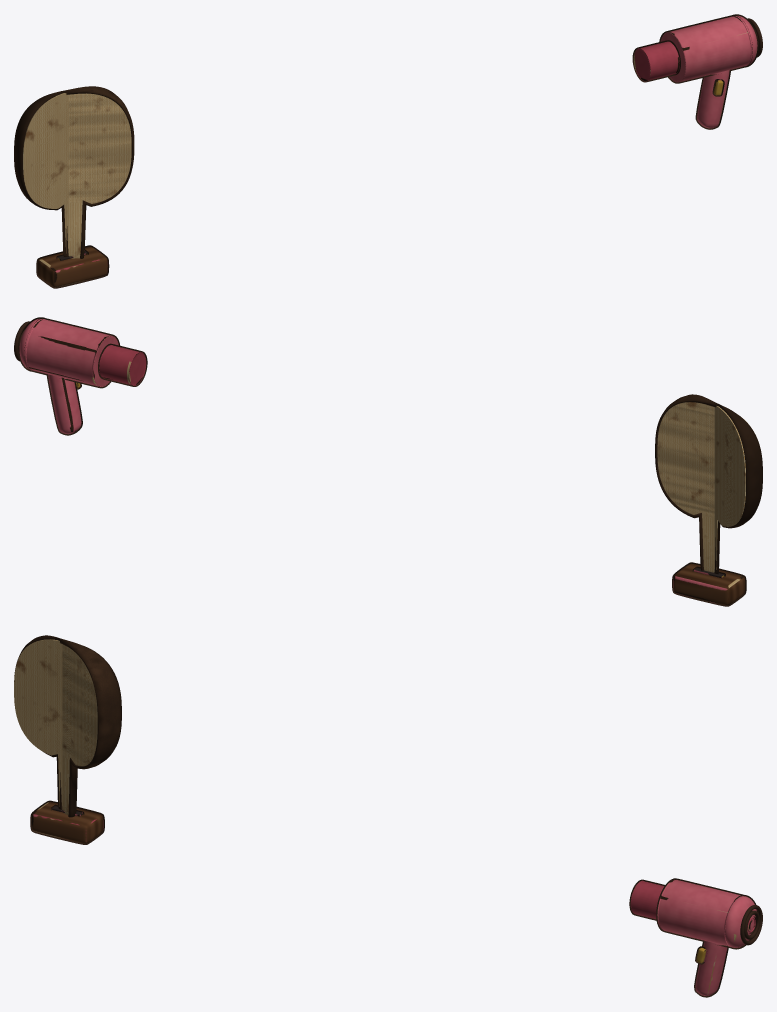
File: Lab_Props.fbx
The picture shows the model from 3 angles, top to bottom: view 1: azimuth 30°, elevation 25°; view 2: azimuth 150°, elevation 25°; view 3: azimuth 330°, elevation 25°; orthographic projection. The views are drawn at different scales.
Visible parts, largest first — view 1: Item_QuatMo, Item_HairDryer, Item_QuatMoHolder, Item_HairDryer_Outline; view 2: Item_QuatMo, Item_HairDryer, Item_QuatMoHolder, Item_HairDryer_Outline; view 3: Item_QuatMo, Item_HairDryer, Item_QuatMoHolder, Item_HairDryer_Outline.
Part boxes in pixels (x1,y1,x2,y2): Item_QuatMo: [14, 86, 134, 258]; Item_HairDryer: [633, 15, 757, 128]; Item_QuatMoHolder: [37, 246, 107, 287]; Item_HairDryer_Outline: [632, 14, 762, 129]; Item_QuatMo: [655, 394, 762, 574]; Item_HairDryer: [19, 318, 146, 434]; Item_QuatMoHolder: [673, 563, 745, 605]; Item_HairDryer_Outline: [14, 317, 147, 435]; Item_QuatMo: [14, 635, 121, 817]; Item_HairDryer: [630, 879, 756, 995]; Item_QuatMoHolder: [31, 802, 103, 843]; Item_HairDryer_Outline: [629, 878, 762, 997].
Bounding box in the file's own units: 7.42 × 1.85 × 0.5365.
